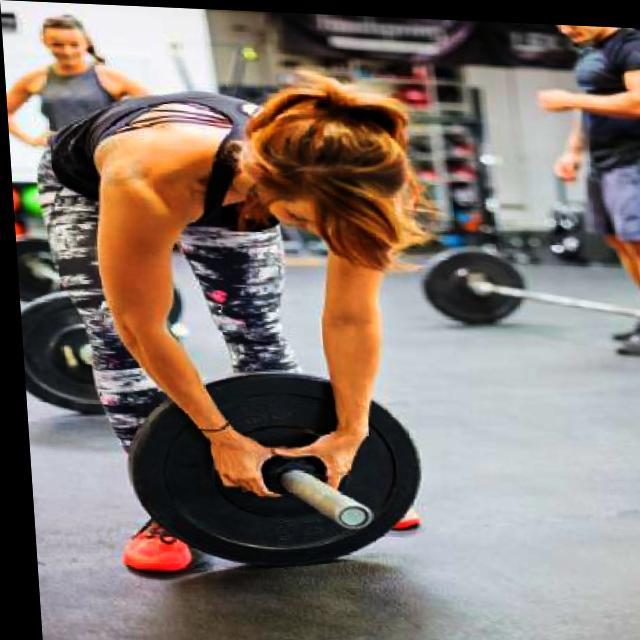barbell: (115, 354, 428, 578)
